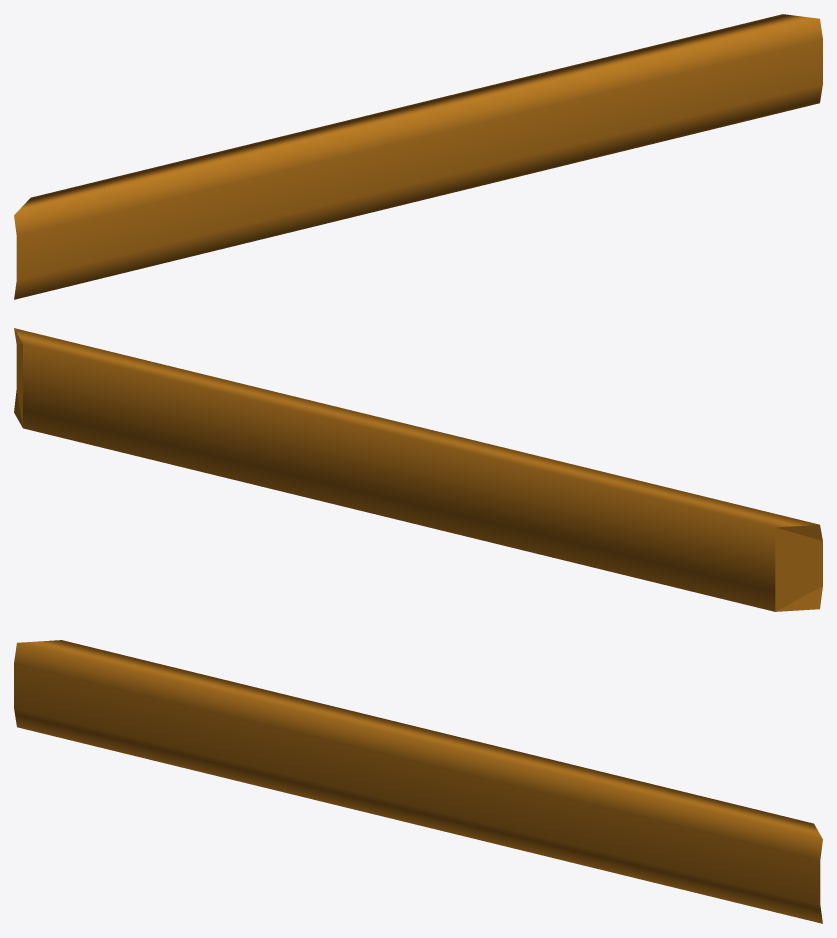
Rendered from Blocker_Bar_Medium.fbx.
3 renders of one model, top to bottom at view 1: azimuth 30°, elevation 25°; view 2: azimuth 150°, elevation 25°; view 3: azimuth 330°, elevation 25°, orthographic.
Visible parts, largest first — view 1: Blocker_Bar_Medium; view 2: Blocker_Bar_Medium; view 3: Blocker_Bar_Medium.
Boxes of the visible parts, left/top/right/bottom form: Blocker_Bar_Medium: left=14, top=14, right=822, bottom=299; Blocker_Bar_Medium: left=14, top=328, right=822, bottom=611; Blocker_Bar_Medium: left=14, top=640, right=822, bottom=923.
Size of the model in its own units: 6.48 by 0.6483 by 0.2341.
